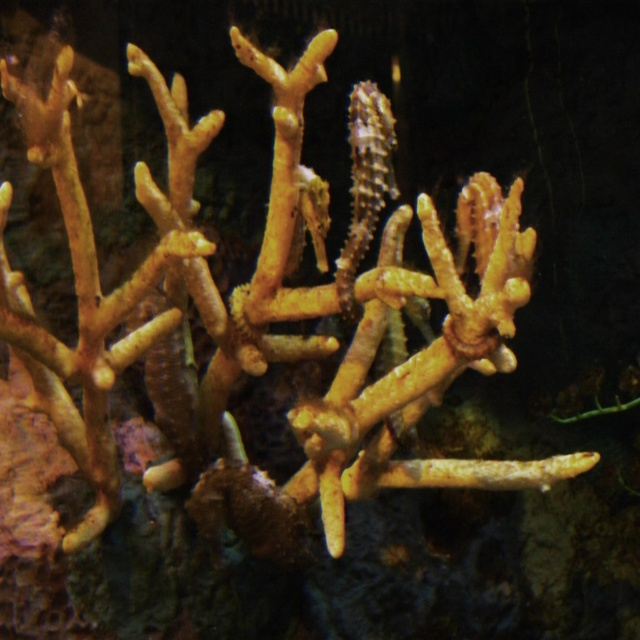Seahorse: (110, 79, 532, 571)
